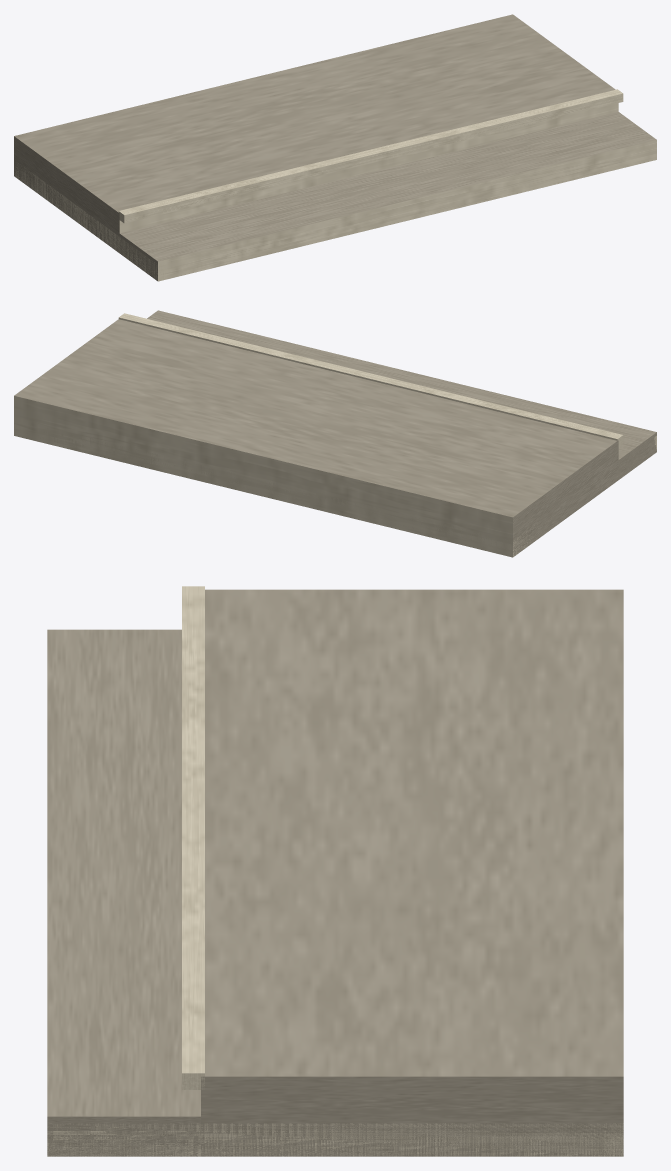
Rendered from house_02_porch_deck.glb.
3 views of the same model, one above another, from view 1: azimuth 30°, elevation 25°; view 2: azimuth 150°, elevation 25°; view 3: azimuth 270°, elevation 25° (orthographic). The views are drawn at different scales.
Visible parts, largest first — view 1: outdoor_house_02_porch_deck; view 2: outdoor_house_02_porch_deck; view 3: outdoor_house_02_porch_deck.
Boxes of the visible parts, x1,y1,x2,y2 form: outdoor_house_02_porch_deck: (14, 14, 656, 281); outdoor_house_02_porch_deck: (14, 310, 656, 557); outdoor_house_02_porch_deck: (47, 586, 623, 1156).
Size of the model in its own units: 3 by 0.24 by 1.5.
Materials: 1 (1 with a texture image).
